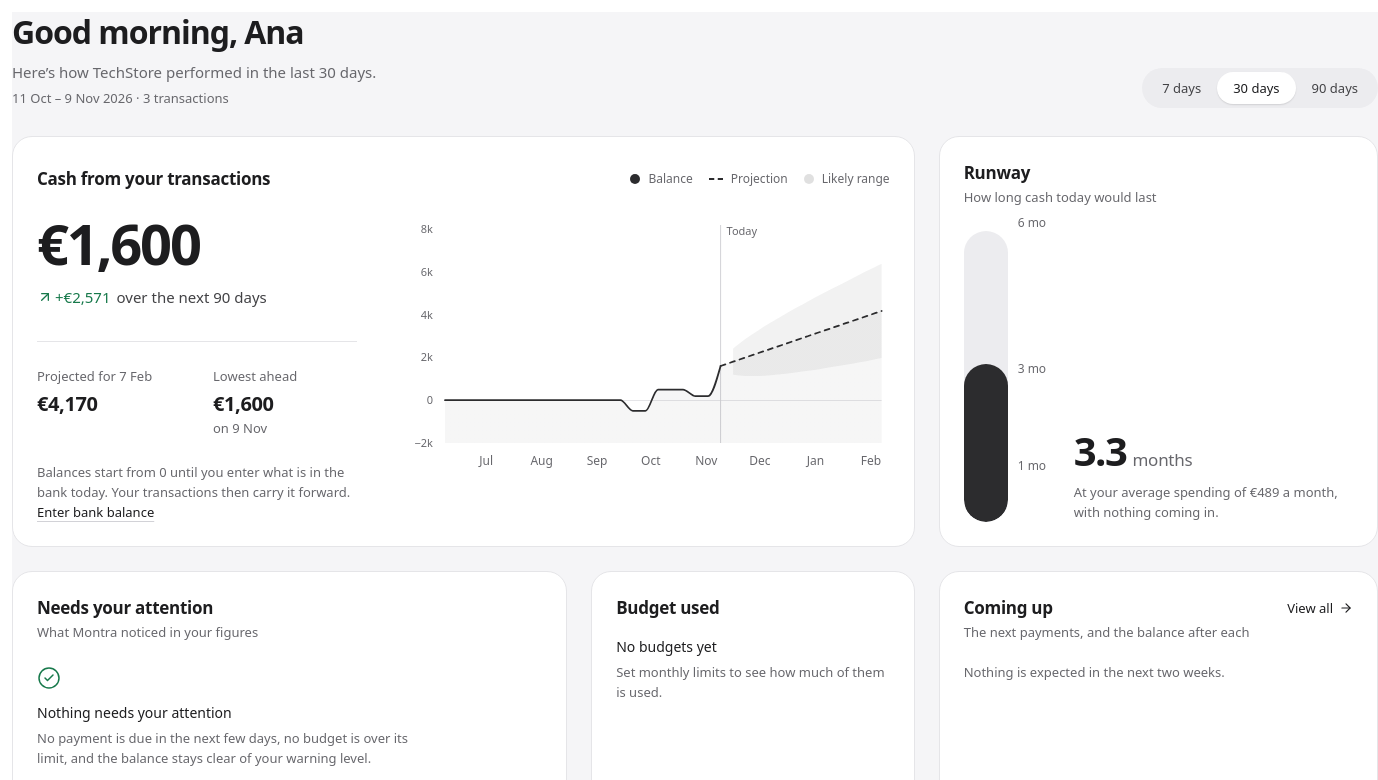
Test: dashboard figures › switches between the quick periods in one tap
Expected: the radio button labelled "30 days" is checked, x1=1217 y1=72 x2=1296 y2=104
Click the radio button labelled "90 days".
click(1335, 88)  # box x1=1296 y1=72 x2=1374 y2=104
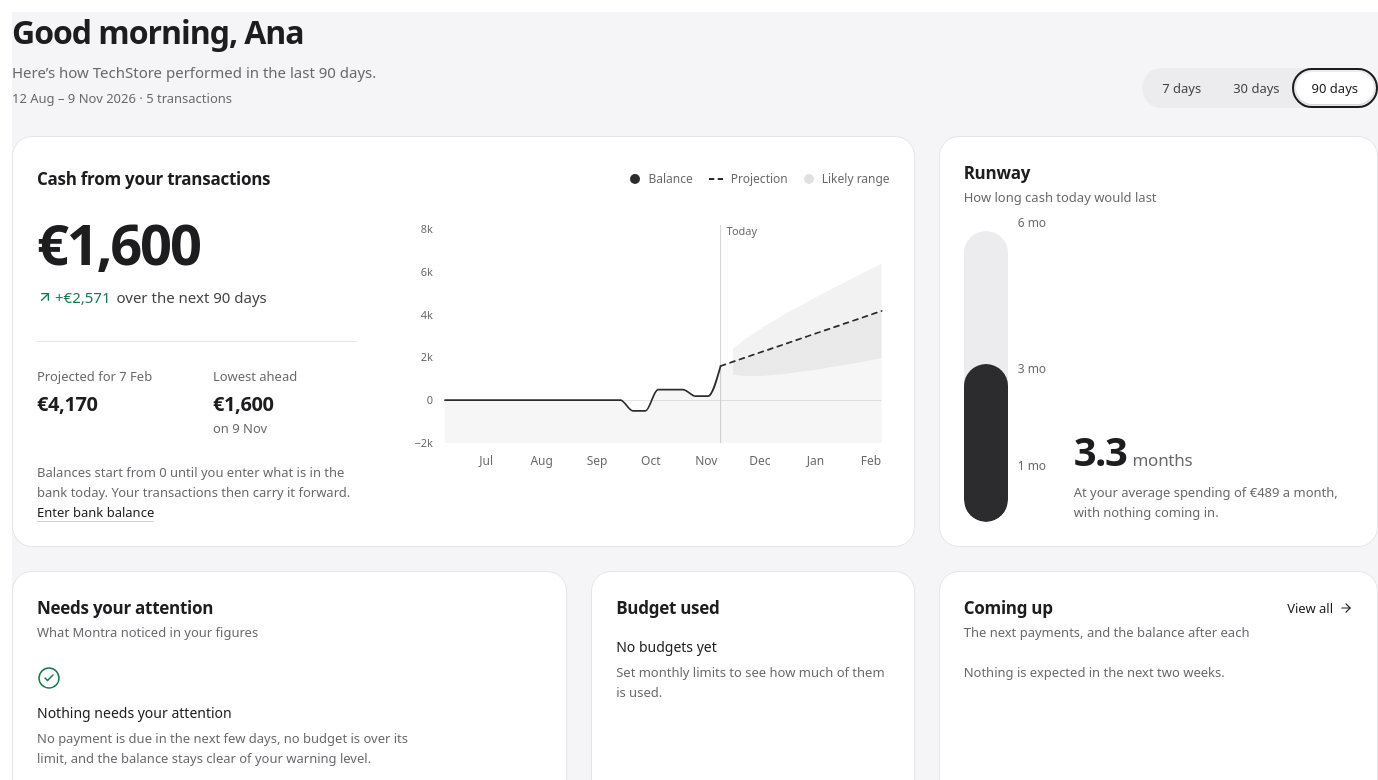
Now the radio button labelled "90 days" is checked, box x1=1296 y1=72 x2=1374 y2=104
Now the text "Here’s how TechStore performed in the last 90 days." is shown, box x1=12 y1=60 x2=376 y2=84
